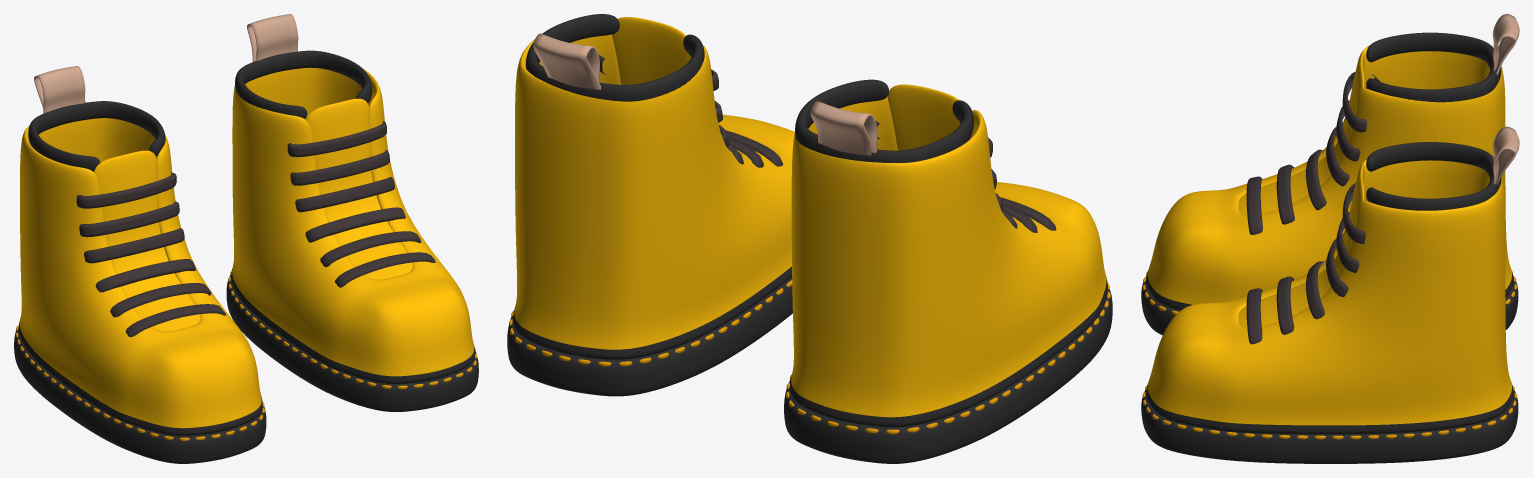
The model's file is Heavy_boots.fbx.
The picture shows the model from 3 angles, left to right: view 1: azimuth 30°, elevation 25°; view 2: azimuth 150°, elevation 25°; view 3: azimuth 270°, elevation 25°; orthographic projection. The views are drawn at different scales.
Visible parts, largest first — view 1: Heavy boots; view 2: Heavy boots; view 3: Heavy boots.
Part boxes in pixels (box(x1,y1,x2,y2)): Heavy boots: box(14, 14, 478, 463); Heavy boots: box(507, 14, 1112, 463); Heavy boots: box(1141, 14, 1519, 463).
Size of the model in its own units: 37.64 by 26.14 by 30.89.
